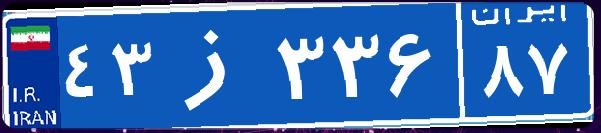3: (273, 28, 330, 110), (330, 28, 385, 110), (110, 28, 158, 105)
4: (57, 26, 110, 107)
6: (385, 28, 445, 110)
7: (525, 38, 570, 115)
8: (475, 38, 525, 113)
ز: (158, 15, 273, 115)
